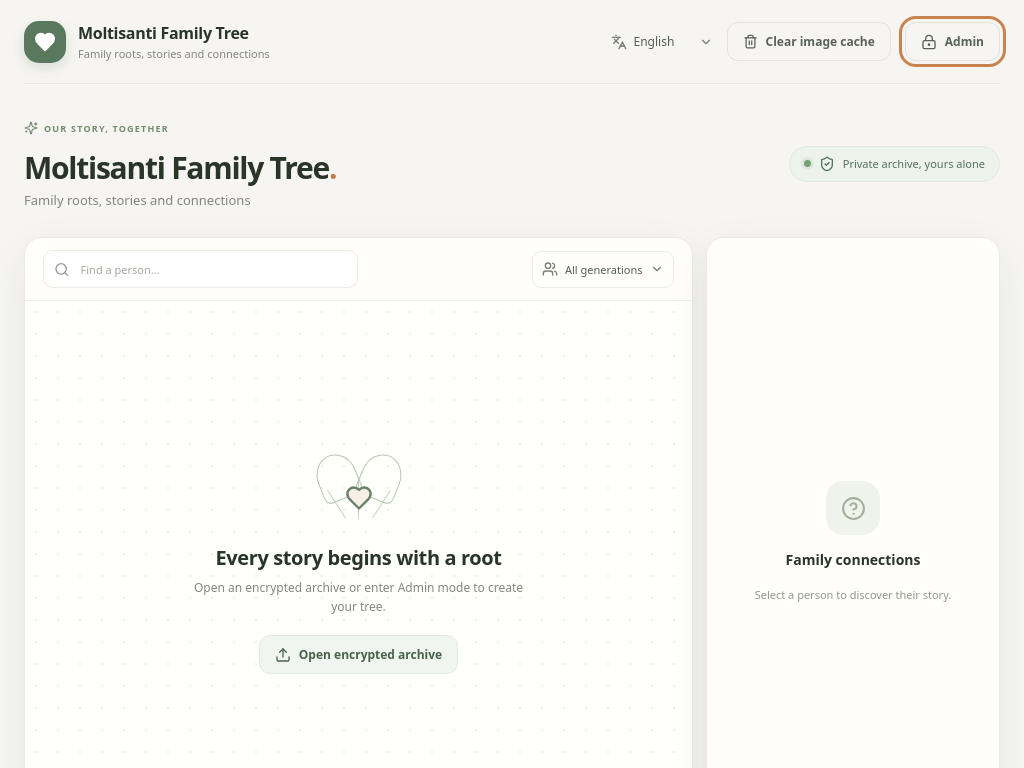
Test: family tree interface › traps keyboard focus in dialogs and restores focus to the opener
This screenshot has width=1024, height=768.
Click the button "Admin" at (952, 42), box [905,22,1000,61]
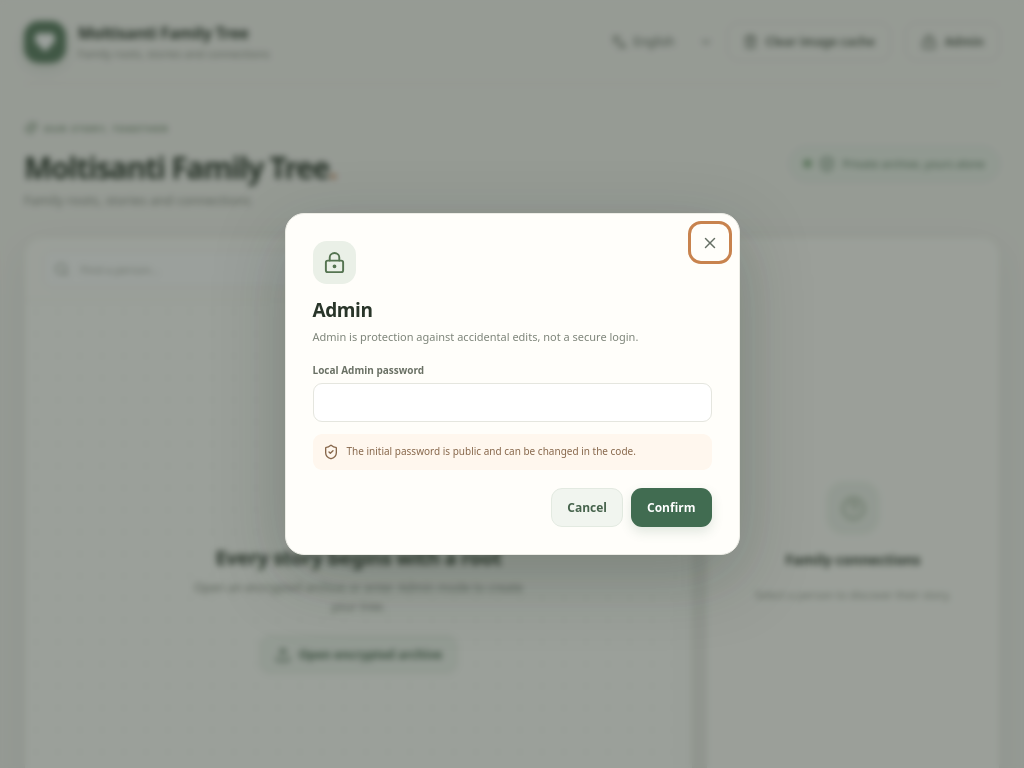
Press Tab in the button named "Close", box [694,227,726,258]
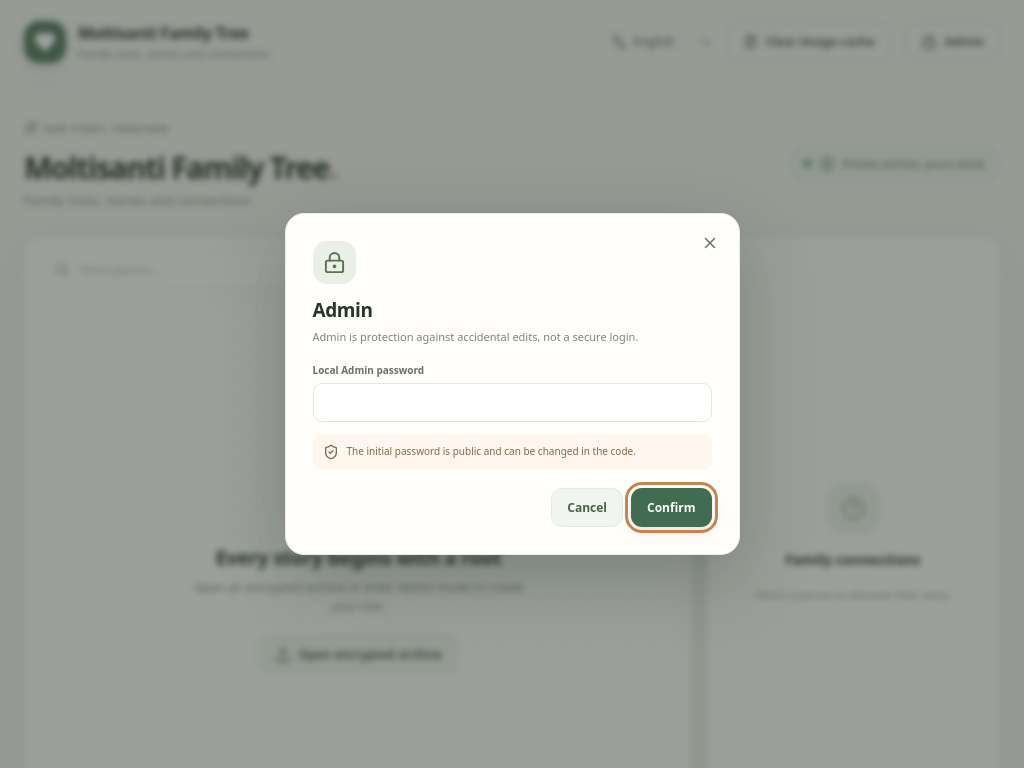
Press Tab in the button "Confirm", box [631,488,712,527]
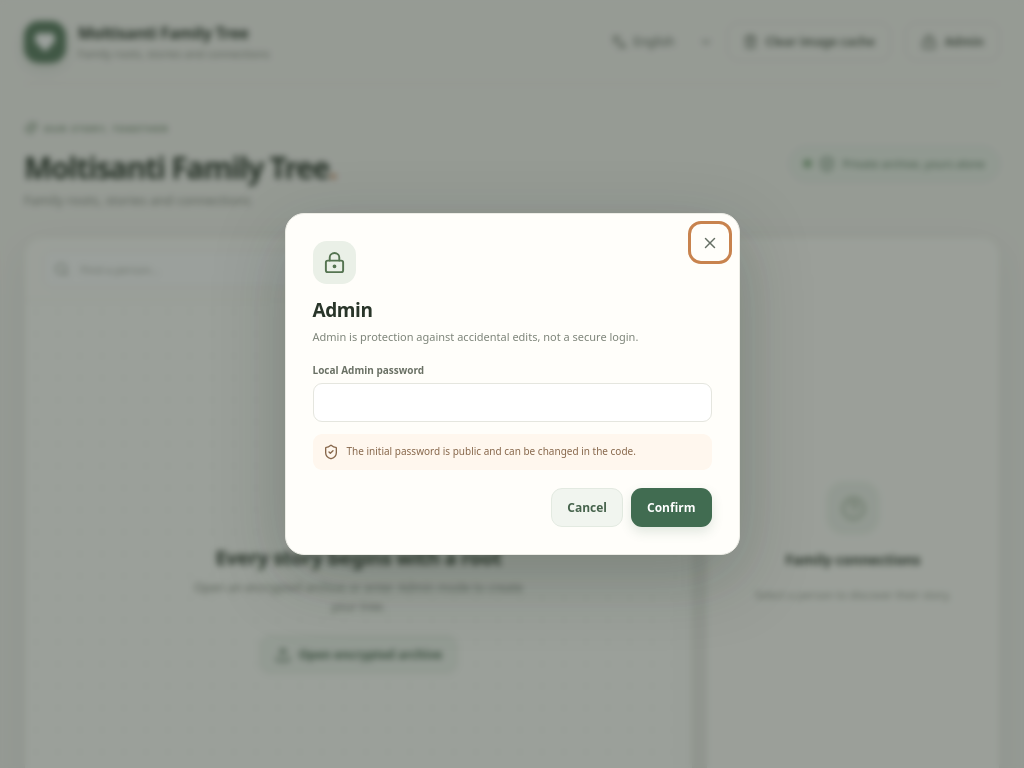
Press Escape in the button named "Close", box [694,227,726,258]
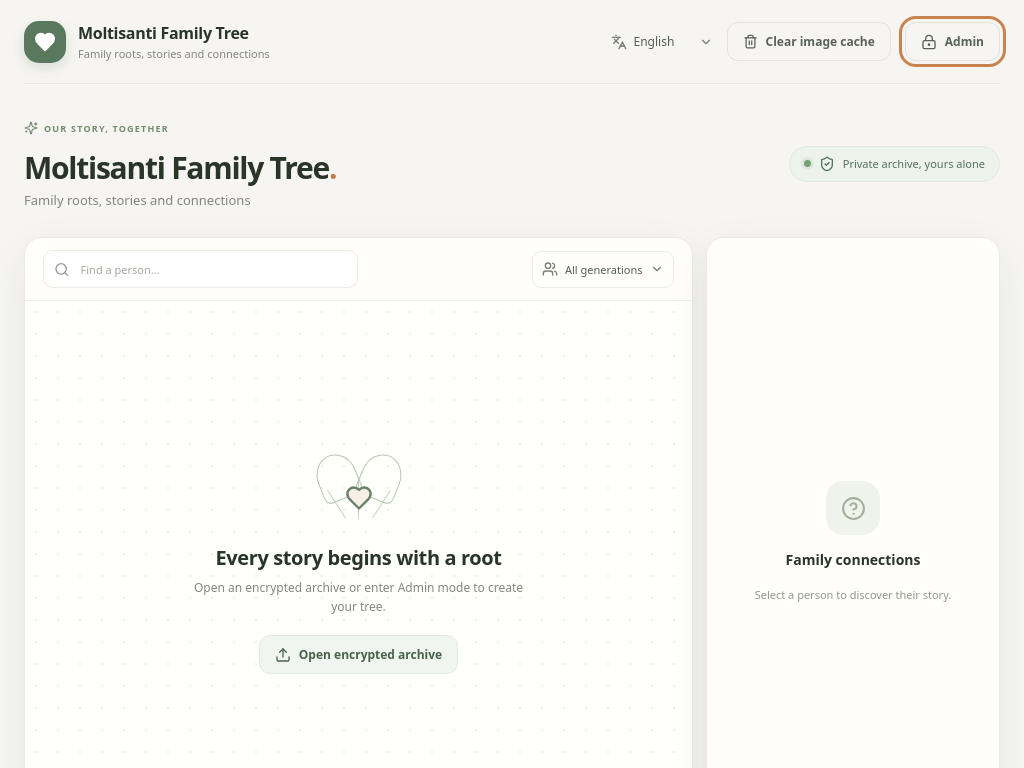
expect the dialog is gone: met
